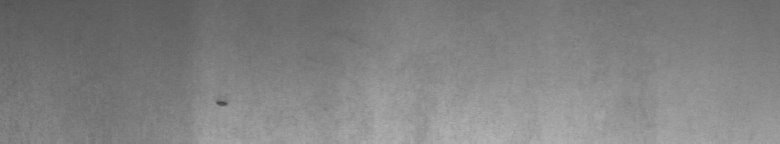fi: (212, 93, 229, 112)
